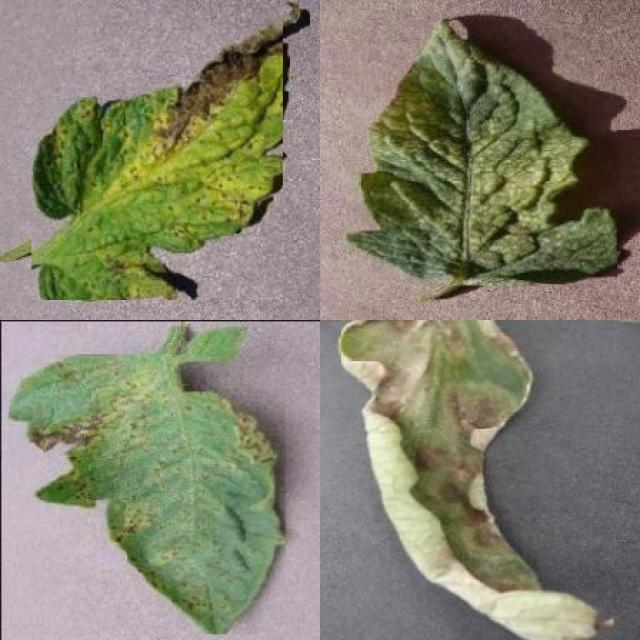Late Blight: (340, 320, 614, 640)
Septoria: (8, 355, 286, 635), (32, 6, 284, 300)
Spider Mites: (346, 18, 618, 286)
